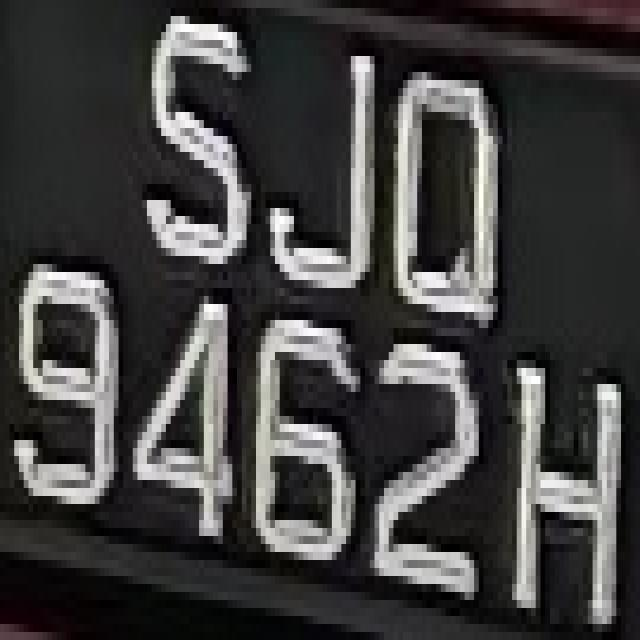2: (360, 336, 484, 608)
4: (114, 264, 242, 544)
6: (247, 312, 379, 584)
9: (19, 224, 118, 544)
H: (498, 336, 626, 640)
J: (266, 24, 394, 328)
Q: (393, 24, 508, 320)
S: (123, 8, 270, 288)
